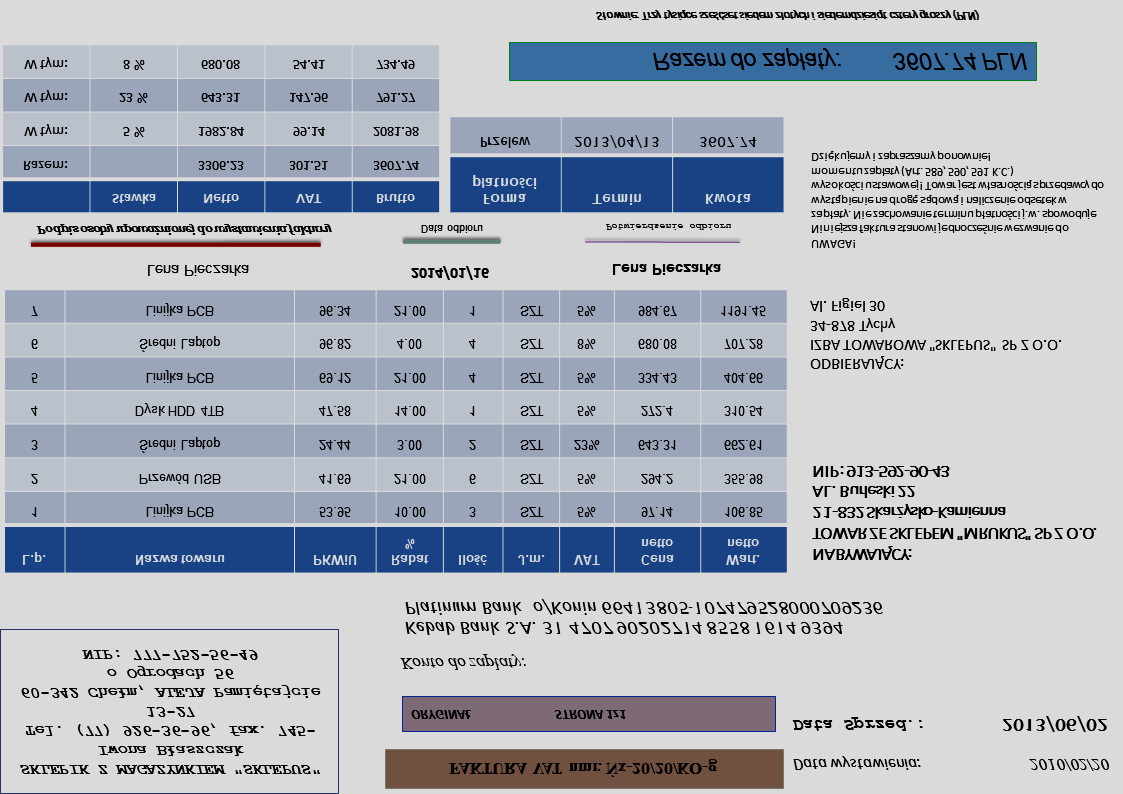Table: (2, 289, 789, 575), (1, 43, 440, 214), (449, 116, 786, 213)
TextBox: (17, 646, 324, 782), (807, 147, 1104, 252), (809, 460, 1100, 564), (807, 296, 1063, 374), (403, 598, 886, 639), (647, 48, 1030, 74), (594, 7, 979, 26), (446, 756, 720, 780), (34, 220, 335, 239), (408, 705, 629, 724), (398, 651, 528, 674), (792, 714, 925, 735), (791, 756, 922, 774), (608, 260, 722, 280), (1000, 716, 1108, 735), (144, 262, 251, 280), (604, 221, 732, 235), (408, 264, 492, 282), (1027, 757, 1110, 774), (419, 221, 485, 237)
